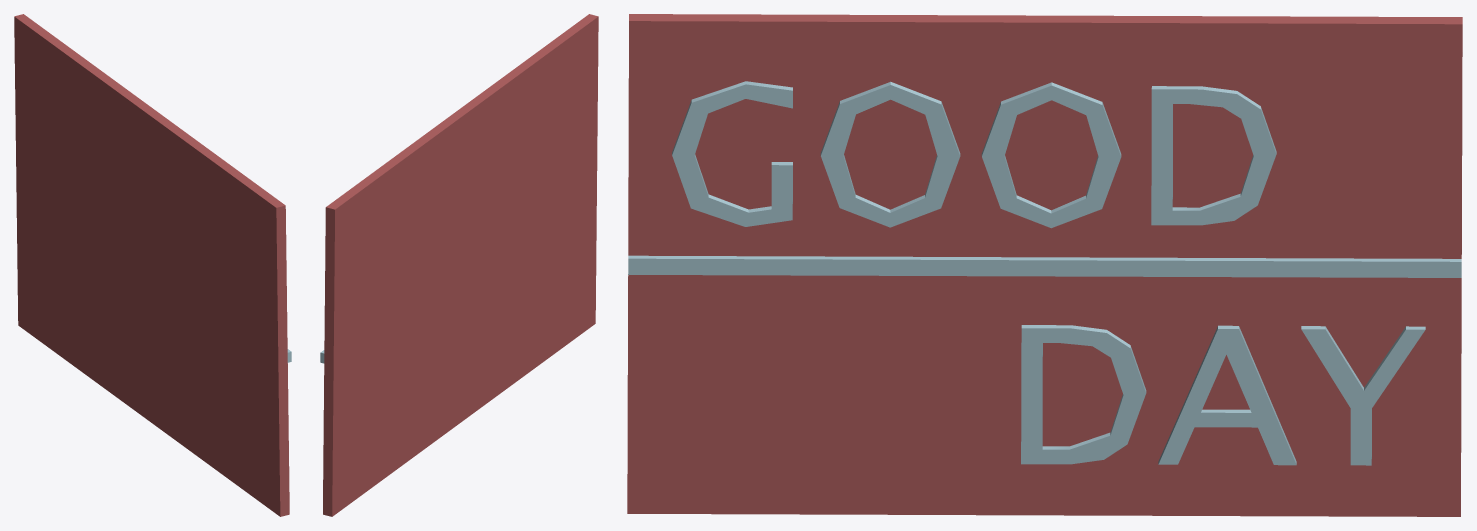
Rendered from Office2_decoration1.fbx.
The picture shows the model from 3 angles, left to right: view 1: azimuth 30°, elevation 25°; view 2: azimuth 150°, elevation 25°; view 3: azimuth 270°, elevation 25°; orthographic projection. The views are drawn at different scales.
Parts seen in each view (by area): view 1: Office2_decoration1; view 2: Office2_decoration1; view 3: Office2_decoration1.
Boxes of the visible parts, <box> form: Office2_decoration1: <box>14,14,291,516</box>; Office2_decoration1: <box>320,14,598,516</box>; Office2_decoration1: <box>627,14,1462,516</box>.
Size of the model in its own units: 3 by 50.26 by 77.24.
